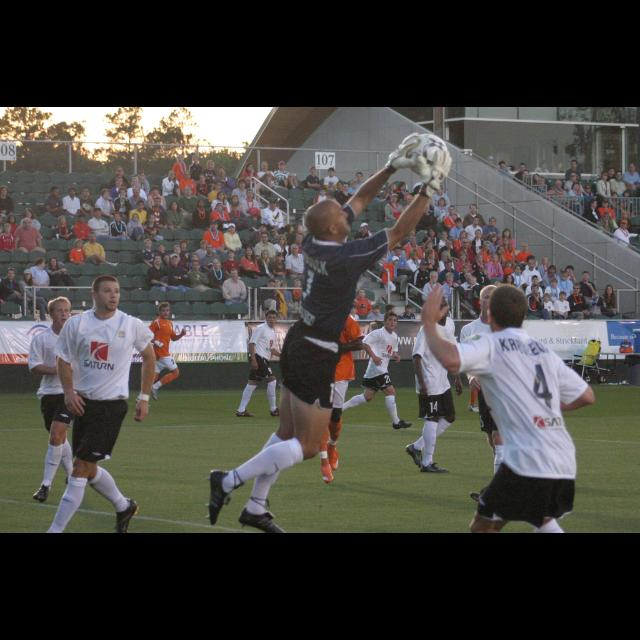Football: (401, 132, 449, 174)
